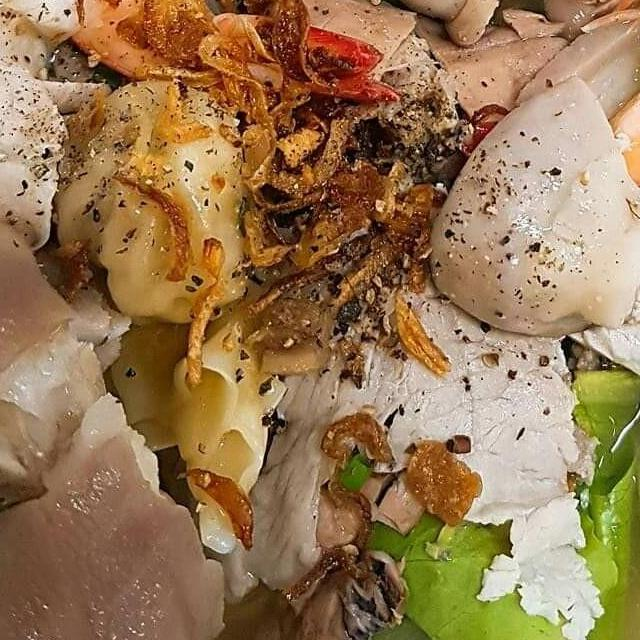thit heo: (238, 263, 617, 640), (531, 68, 640, 395), (0, 0, 127, 276)
tom: (5, 0, 456, 96), (482, 0, 640, 204)
